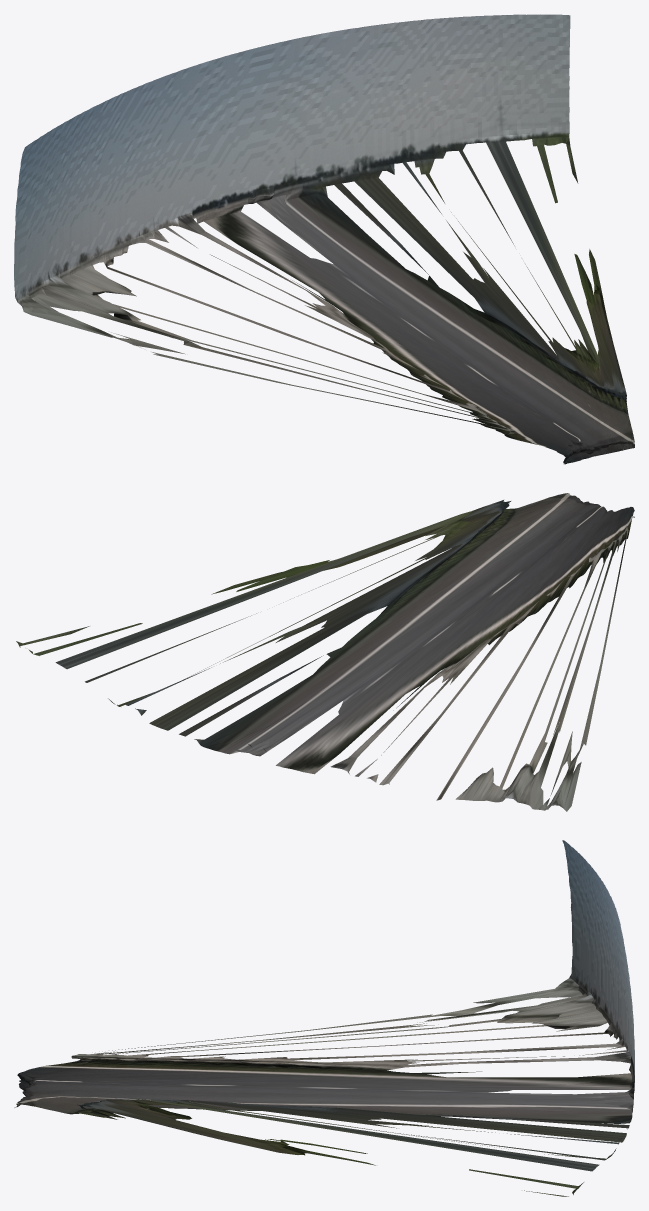
The picture shows the model from 3 angles, top to bottom: view 1: azimuth 30°, elevation 25°; view 2: azimuth 150°, elevation 25°; view 3: azimuth 270°, elevation 25°; orthographic projection. The views are drawn at different scales.
Parts seen in each view (by area): view 1: defaultobject; view 2: defaultobject; view 3: defaultobject.
Boxes of the visible parts, box(x1,y1,x2,y2) form: defaultobject: box(14, 14, 634, 464); defaultobject: box(16, 493, 634, 811); defaultobject: box(14, 840, 634, 1196).
Size of the model in its own units: 41.16 by 12.83 by 44.43.
Materials: 1 (1 with a texture image).
